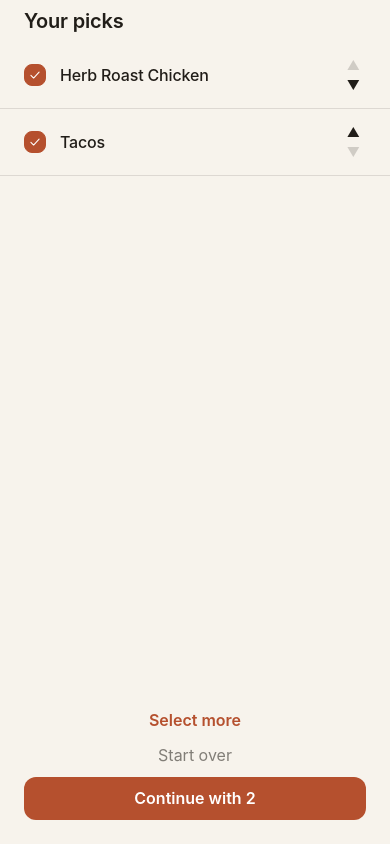
Test: Select more shows a toast and stays put when there is nothing left to add
Expected: the text "Herb Roast Chicken" is shown, [60, 64, 209, 84]
Click the button with test id "shortlist-select-more" at (195, 720), box [24, 707, 366, 734]
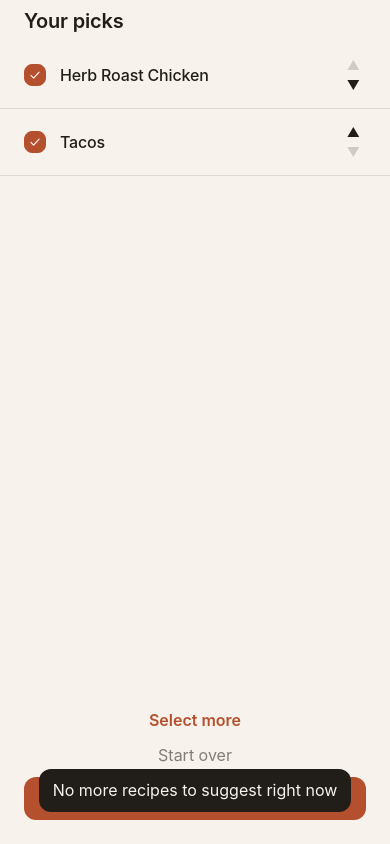
Expected: the text "No more recipes to suggest right now" is shown, [53, 777, 337, 804]
